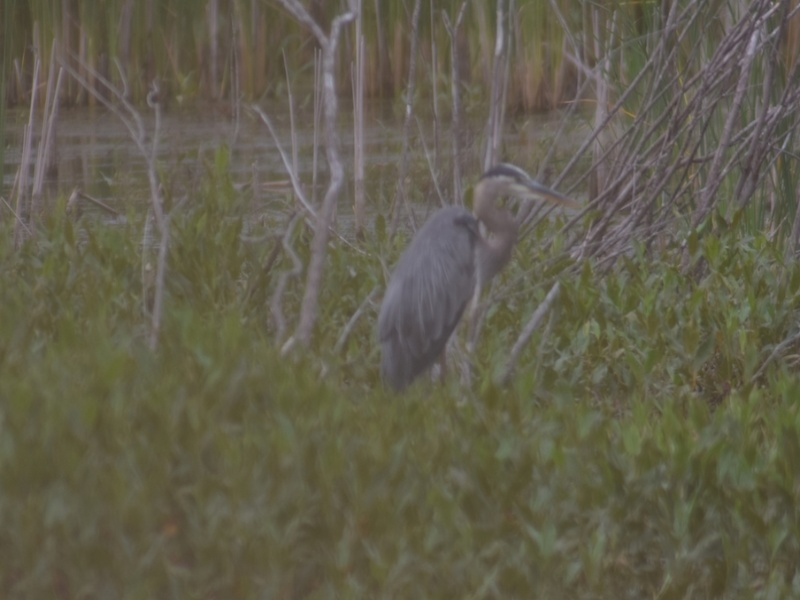heron: (379, 158, 579, 392)
